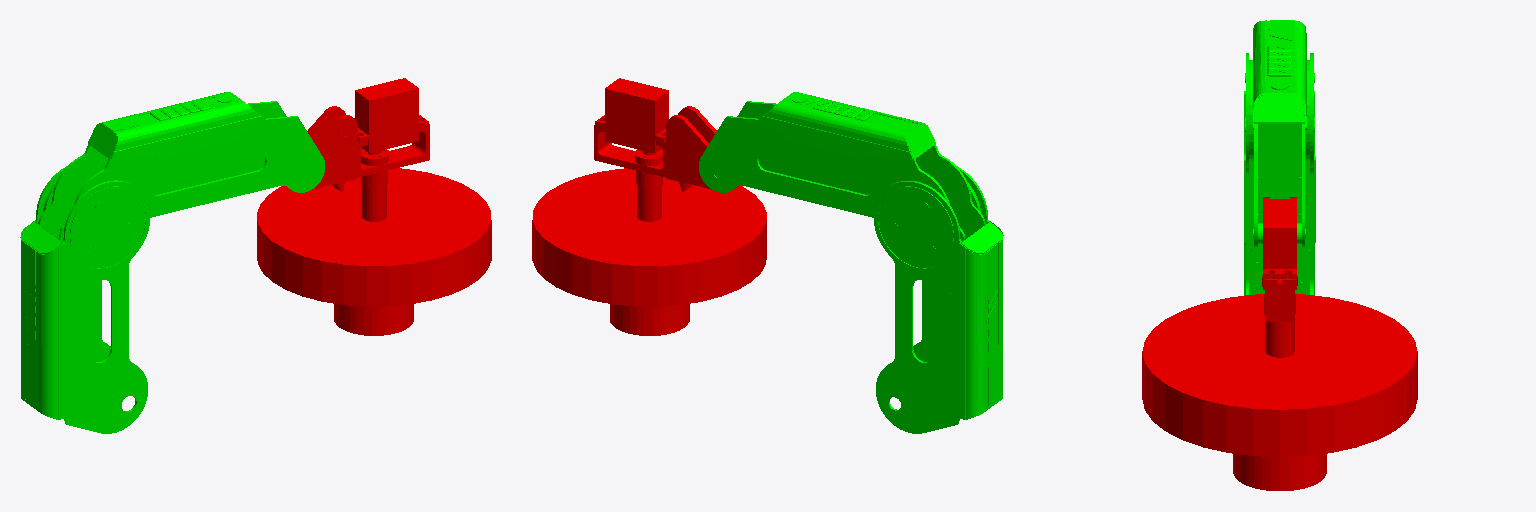
The robot description file, URDF, robot "magician":
<?xml version="1.0" ?>
<robot name="magician" xmlns:xi="http://www.w3.org/2001/XInclude">

  <material name="Red">
    <color rgba="1 0 0 1"/>
  </material>
  <material name="Green">
    <color rgba="0 1 0 1"/>
  </material>
  <material name="Blue">
    <color rgba="0 0 1 1"/>
  </material>
  <material name="Orange">
    <color rgba="1 0.6 0.0 1"/>
  </material>

  <link name="magician_root_link"/>
  <link name="magician_base_link">
    <visual>
      <origin rpy="0 0 0" xyz="0 0 0"/>
      <geometry>
        <mesh filename="package://dobot_kinematics/meshes/collision/core/magicianBase.dae"/>
      </geometry>
       <material name="Orange"/>
    </visual>
    <collision>
      <origin rpy="0 0 0" xyz="0 0 0"/>
      <geometry>
        <mesh filename="package://dobot_kinematics/meshes/collision/core/magicianBase.dae"/>
      </geometry>
      <material name="Orange"/>
    </collision>
  </link>
  <joint name="magician_joint_base" type="fixed">
    <parent link="magician_root_link"/>
    <child link="magician_base_link"/>
    <axis xyz="0 0 0"/>
    <limit effort="2000" lower="0" upper="0" velocity="1"/>
    <origin rpy="0 0 0" xyz="0 0 0"/>
    <dynamics damping="0.0" friction="0.0"/>
  </joint>
  <link name="magician_link_1">
    <visual>
      <origin rpy="0 0 0" xyz="0 0 0"/>
      <geometry>
        <mesh filename="package://dobot_kinematics/meshes/collision/core/magicianLink1.dae"/>
      </geometry>
             <material name="Green"/>
    </visual>
    <collision>
      <origin rpy="0 0 0" xyz="0 0 0"/>
      <geometry>
        <mesh filename="package://dobot_kinematics/meshes/collision/core/magicianLink1.dae"/>
      </geometry>
      <material name="Green"/>
    </collision>
  </link>
  <joint name="magician_joint_1" type="revolute">
    <parent link="magician_base_link"/>
    <child link="magician_link_1"/>
    <axis xyz="0 0 1"/>
    <limit effort="2000" lower="-2.1816615649929116" upper="2.1816615649929116" velocity="1"/>
    <origin rpy="0 0 0" xyz="0 0 0"/>
    <dynamics damping="0.0" friction="0.0"/>
  </joint>
  <link name="magician_link_2">
    <visual>
      <origin rpy="0 -0.3490658503988659 0" xyz="0 0 0"/>
      <geometry>
        <mesh filename="package://dobot_kinematics/meshes/collision/core/magicianLink2.dae"/>
      </geometry>
      <material name="Green"/>
    </visual>
    <collision>
      <origin rpy="0 -0.3490658503988659 0" xyz="0 0 0"/>
      <geometry>
        <mesh filename="package://dobot_kinematics/meshes/collision/core/magicianLink2.dae"/>
      </geometry>
      <material name="Green"/>
    </collision>
  </link>
  <joint name="magician_joint_2" type="revolute">
    <parent link="magician_link_1"/>
    <child link="magician_link_2"/>
    <axis xyz="0 1 0"/>
    <limit effort="2000" lower="-0.08726646259971647" upper="1.5707963267948966" velocity="1"/>
    <origin rpy="0 0.0 0" xyz="0 0 0.0"/>
    <dynamics damping="0.0" friction="0.0"/>
  </joint>
  <link name="magician_link_3">
    <visual>
      <origin rpy="0 -0.47123889803846897 0" xyz="0.01645236135969491 0 -0.13399373047157848"/>
      <geometry>
        <mesh filename="package://dobot_kinematics/meshes/collision/core/magicianLink3.dae"/>
      </geometry>
      <material name="Green"/>
    </visual>
    <collision>
      <origin rpy="0 -0.47123889803846897 0" xyz="0.01645236135969491 0 -0.13399373047157848"/>
      <geometry>
        <mesh filename="package://dobot_kinematics/meshes/collision/core/magicianLink3.dae"/>
      </geometry>
      <material name="Green"/>
    </collision>
  </link>
  <joint name="magician_joint_3" type="revolute">
    <parent link="magician_link_2"/>
    <child link="magician_link_3"/>
    <axis xyz="0 1 0"/>
    <limit effort="2000" lower="-0.2617993877991494" upper="1.2217304763960306" velocity="1"/>
    <origin rpy="0 0 0" xyz="0 0.0 0.135"/>
    <dynamics damping="0.0" friction="0.0"/>
  </joint>
  <joint name="magician_joint_mimic_1" type="revolute">
    <parent link="magician_link_3"/>
    <child link="magician_link_4"/>
    <axis xyz="0 1 0"/>
    <limit effort="2000" lower="-3.14159265359" upper="3.14159265359" velocity="1"/>
    <origin rpy="0 0 0" xyz="0.147 0 0"/>
    <dynamics damping="0.0" friction="0.0"/>
  </joint>
  <link name="magician_link_4">
    <visual>
      <origin rpy="0 0 0" xyz="-0.17715067840465534 0 -0.058595107267811"/>
      <geometry>
        <mesh filename="package://dobot_kinematics/meshes/collision/end_tools/extended_gripper_collision_part1.dae"/>
      </geometry>
      <material name="Red"/>
    </visual>
    <collision>
      <origin rpy="0 0 0" xyz="-0.17715067840465534 0 -0.058595107267811"/>
      <geometry>
        <mesh filename="package://dobot_kinematics/meshes/collision/end_tools/extended_gripper_collision_part1.dae"/>
      </geometry>
      <material name="Red"/>
    </collision>
  </link>
  <joint name="magician_joint_end_effector" type="fixed">
    <parent link="magician_link_4"/>
    <child link="end_effector_part"/>
    <origin rpy="0 0 0" xyz="0 0 0"/>
  </joint>
  <link name="end_effector_part">
    <visual>
      <origin rpy="0 0 0" xyz="-0.17715067840465534 0 -0.058595107267811"/>
      <geometry>
        <mesh filename="package://dobot_kinematics/meshes/collision/end_tools/extended_gripper_collision_part2.dae"/>
      </geometry>
      <material name="Red"/>
    </visual>
    <collision>
      <origin rpy="0 0 0" xyz="-0.17715067840465534 0 -0.058595107267811"/>
      <geometry>
        <mesh filename="package://dobot_kinematics/meshes/collision/end_tools/extended_gripper_collision_part2.dae"/>
      </geometry>
      <material name="Red"/>
    </collision>
  </link>
</robot>

--- What the picture shows (computed from the rendered views, not written in the file) ---
3 views of the same robot in one strip: view 1: azimuth 30°, elevation 25°; view 2: azimuth 150°, elevation 25°; view 3: azimuth 270°, elevation 25° (orthographic).
Robot: magician — 7 links, 6 joints (4 revolute, 2 fixed); root link magician_root_link; default pose: all joints at 0.
Links seen in each view (by area): view 1: magician_link_4, magician_link_2, magician_link_3, end_effector_part; view 2: magician_link_4, magician_link_2, magician_link_3, end_effector_part; view 3: magician_link_4, magician_link_2, magician_link_3, end_effector_part.
Boxes of the visible links, bbox=[...] form: magician_link_4: bbox=[257, 78, 491, 306]; magician_link_2: bbox=[20, 166, 149, 433]; magician_link_3: bbox=[38, 92, 324, 240]; end_effector_part: bbox=[334, 304, 413, 335]; magician_link_4: bbox=[532, 78, 766, 306]; magician_link_2: bbox=[874, 166, 1003, 433]; magician_link_3: bbox=[699, 92, 985, 240]; end_effector_part: bbox=[610, 304, 689, 335]; magician_link_4: bbox=[1142, 197, 1417, 456]; magician_link_2: bbox=[1244, 53, 1315, 295]; magician_link_3: bbox=[1253, 20, 1306, 247]; end_effector_part: bbox=[1233, 454, 1326, 490].
Bounding box of the posed robot: 0.3544 × 0.162 × 0.223 m (x, y, z).
4 mesh visuals loaded from 6 distinct referenced files (4 Collada DAE); not drawn: 2 (reference not matched to a file when rendering).